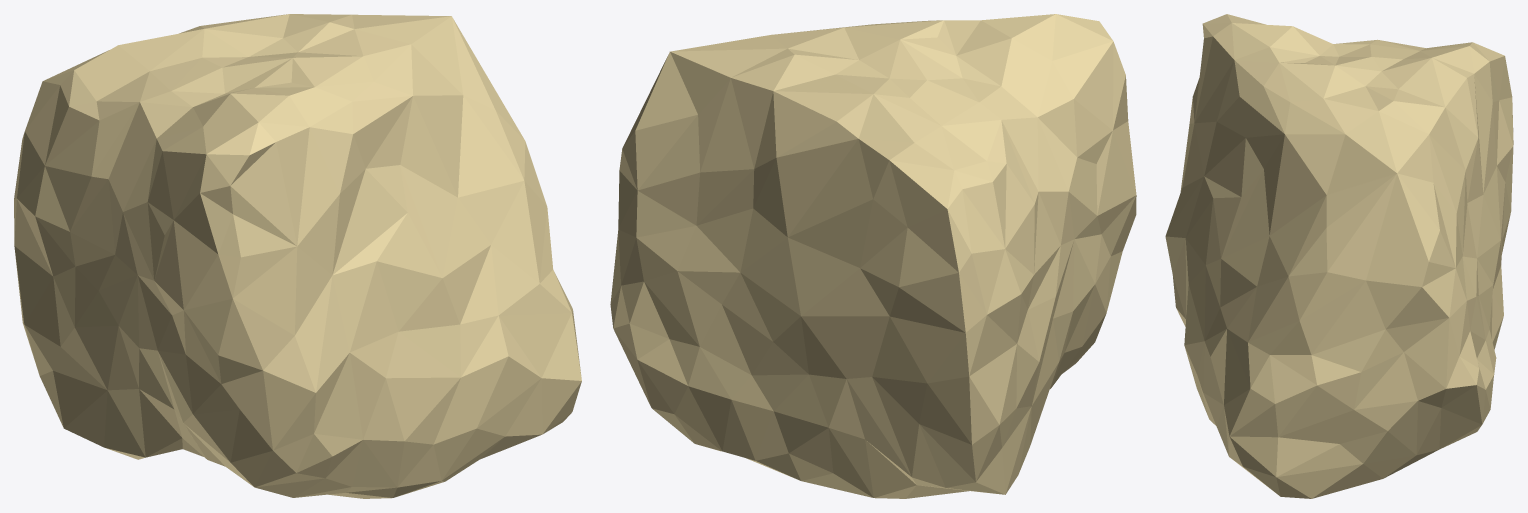
File: Asteroid (25).fbx
3 views of the same model, side by side, from view 1: azimuth 30°, elevation 25°; view 2: azimuth 150°, elevation 25°; view 3: azimuth 270°, elevation 25° (orthographic). The views are drawn at different scales.
Visible parts, largest first — view 1: Asteroid198; view 2: Asteroid198; view 3: Asteroid198.
Part boxes in pixels (x1,y1,x2,y2): Asteroid198: (14, 14, 581, 498); Asteroid198: (610, 14, 1136, 498); Asteroid198: (1165, 14, 1513, 498).
Size of the model in its own units: 518 by 477 by 424.
